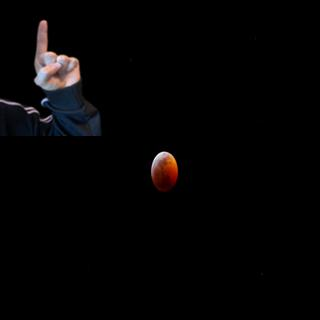IRRITATED: (32, 17, 82, 93)
